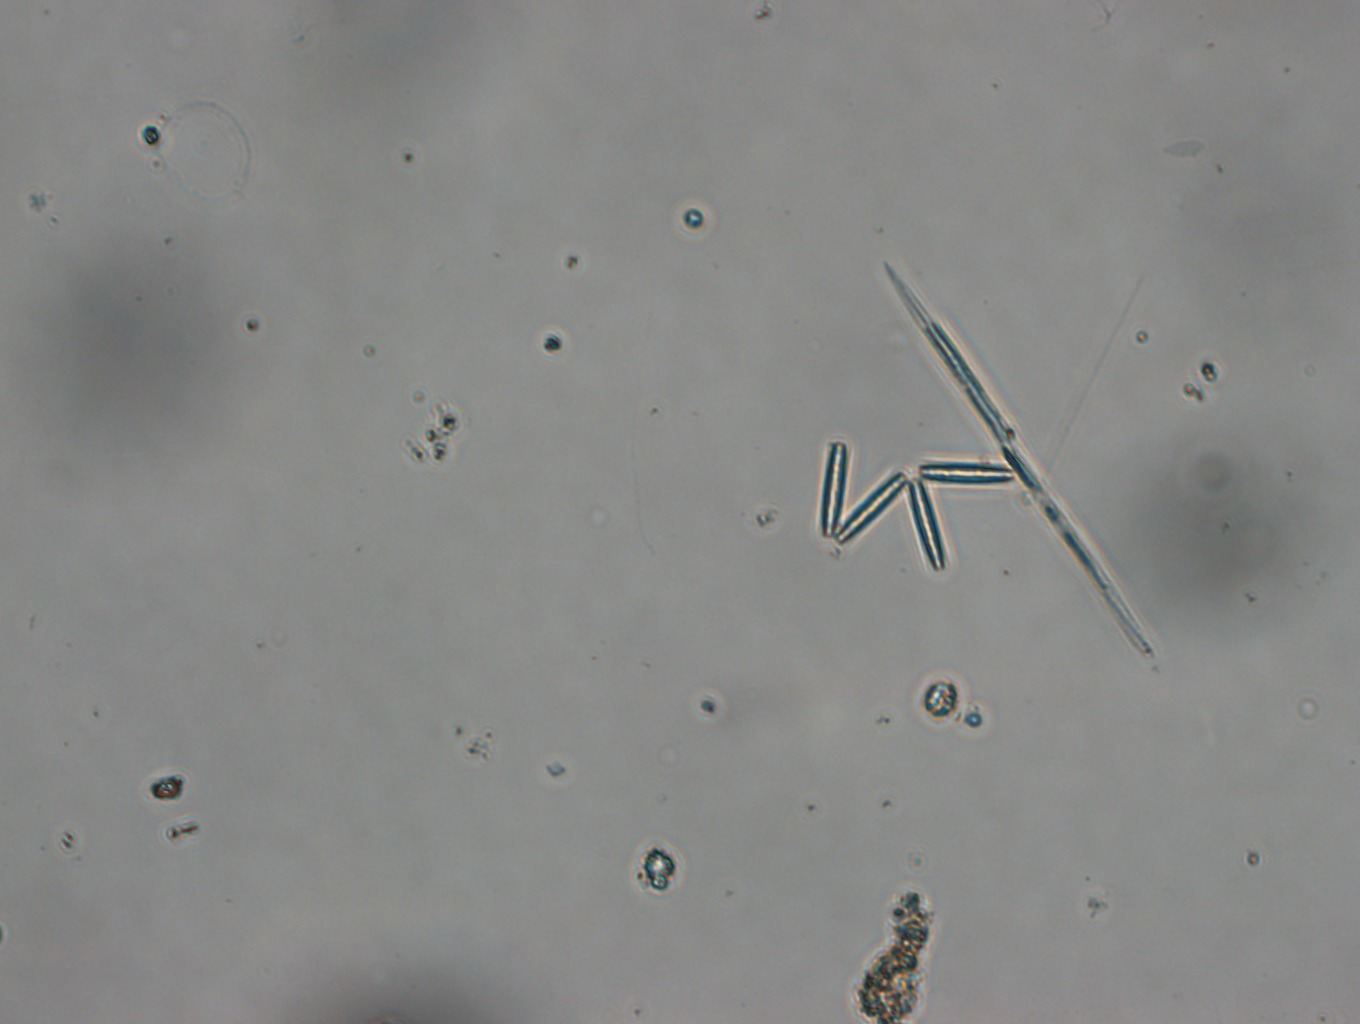thalassionema nitzschioides: (816, 443, 1016, 578)
